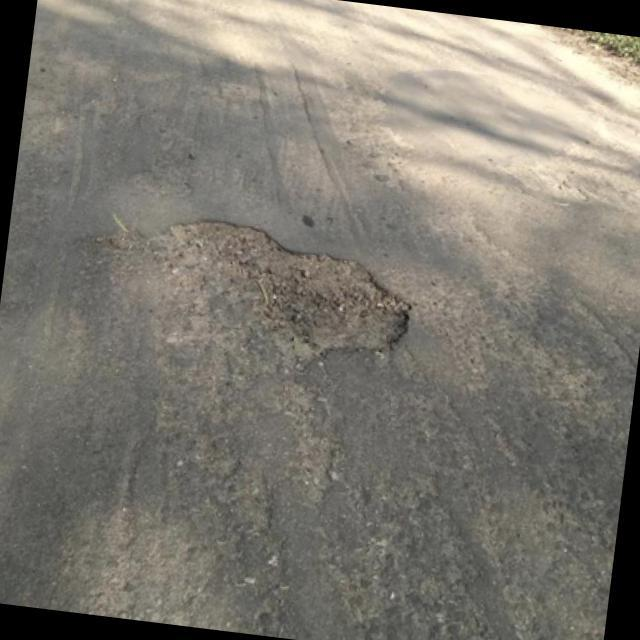Pothole: (151, 222, 409, 353)
